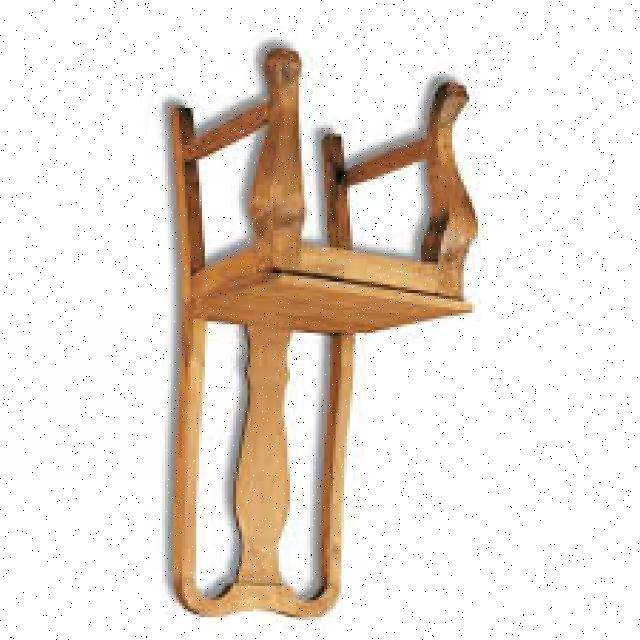bottle: (162, 44, 486, 626)
